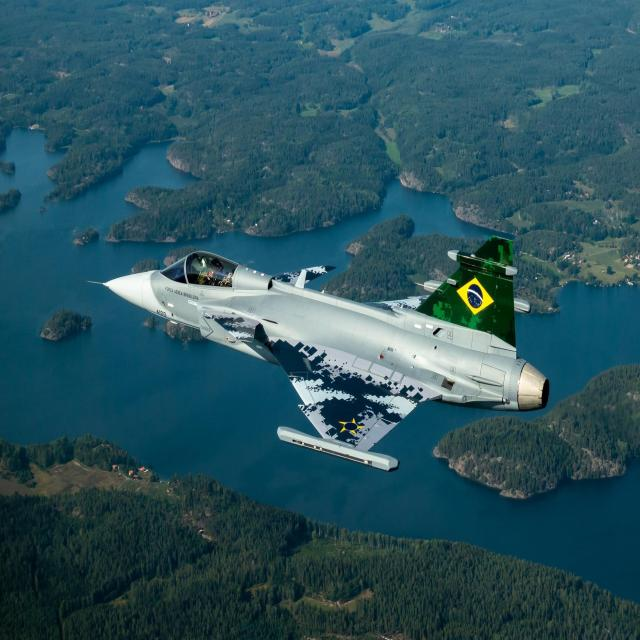MIL_Plane: (87, 235, 549, 473)
